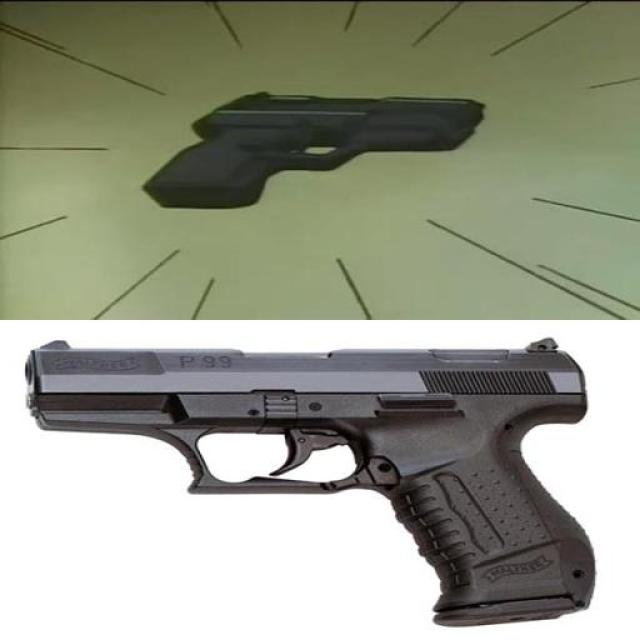pistol: (24, 340, 598, 629), (141, 89, 486, 210)
